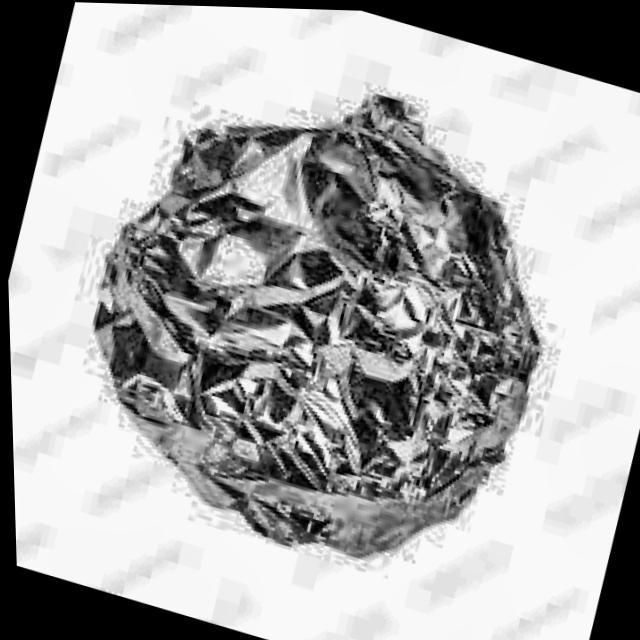Foil: (0, 6, 607, 619)
